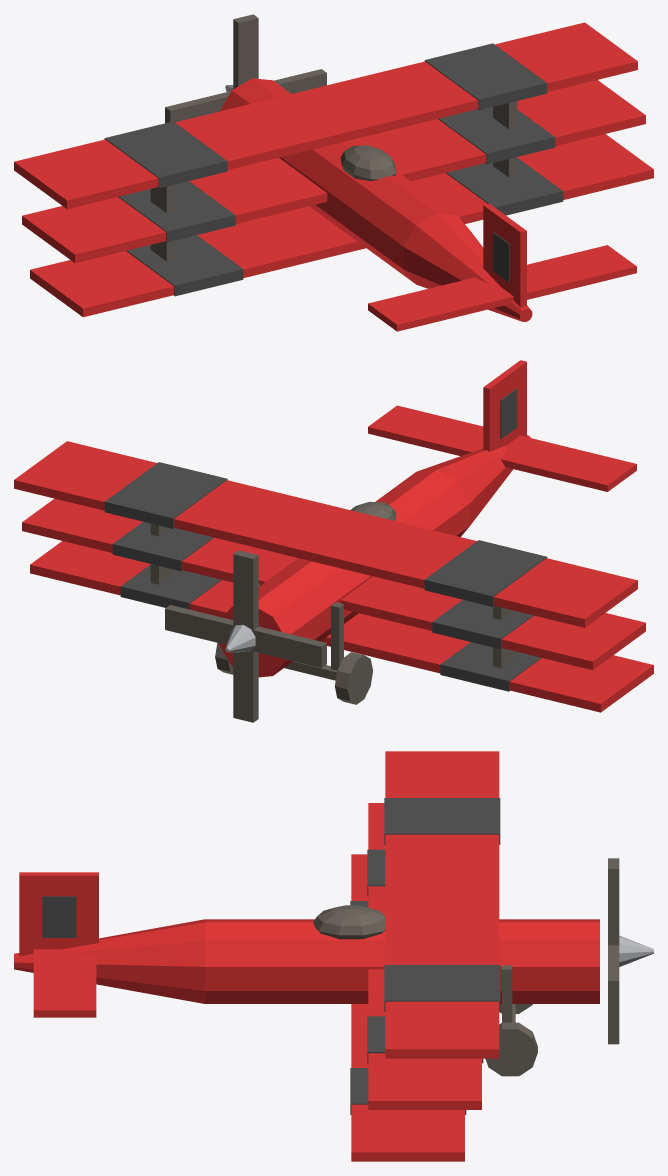
Rendered from boss-7-baron.glb.
3 views of the same model, one above another, from view 1: azimuth 30°, elevation 25°; view 2: azimuth 150°, elevation 25°; view 3: azimuth 270°, elevation 25° (orthographic). The views are drawn at different scales.
Parts seen in each view (by area): view 1: boss-7-baron; view 2: boss-7-baron; view 3: boss-7-baron.
Boxes of the visible parts, bbox=[...] form: boss-7-baron: bbox=[14, 14, 653, 331]; boss-7-baron: bbox=[14, 360, 653, 722]; boss-7-baron: bbox=[14, 751, 653, 1161].
Size of the model in its own units: 6.2 by 1.73 by 5.63.
